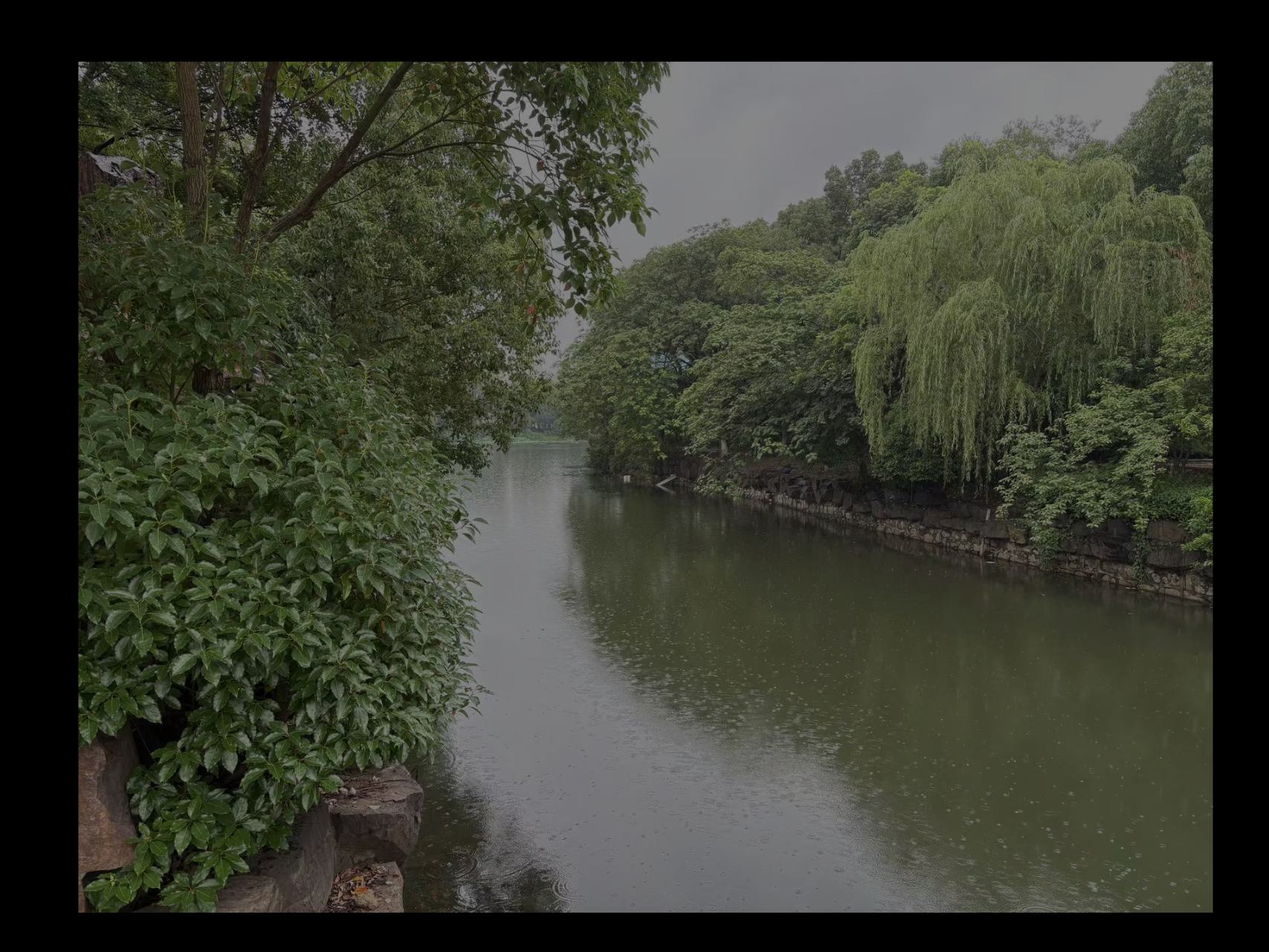Plastic wastes: (621, 473, 632, 483), (984, 560, 995, 563)
